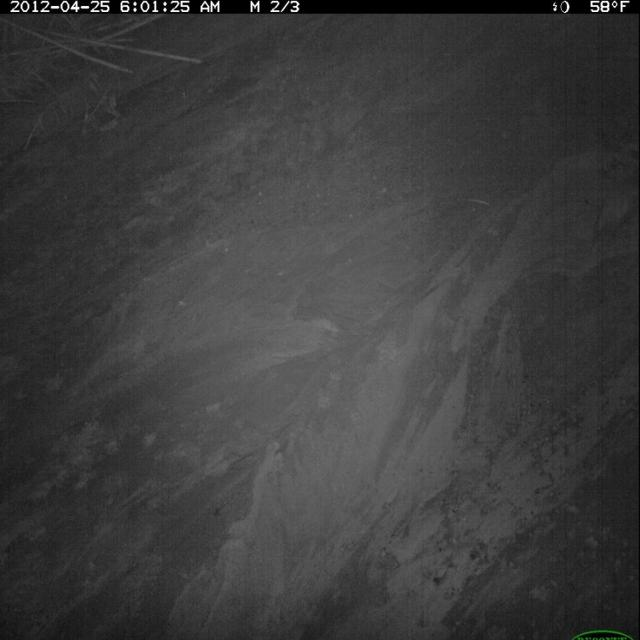opossum: (589, 168, 640, 249)
